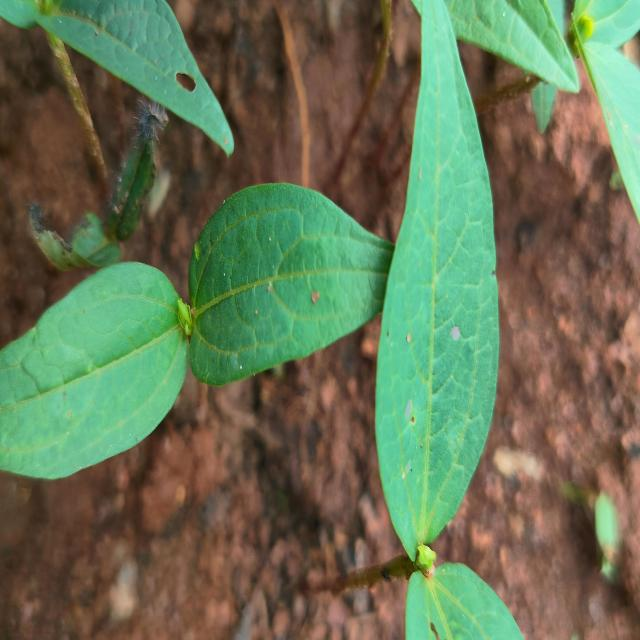Black gram_healthy: (376, 0, 498, 557), (0, 259, 190, 480), (189, 179, 380, 384)
